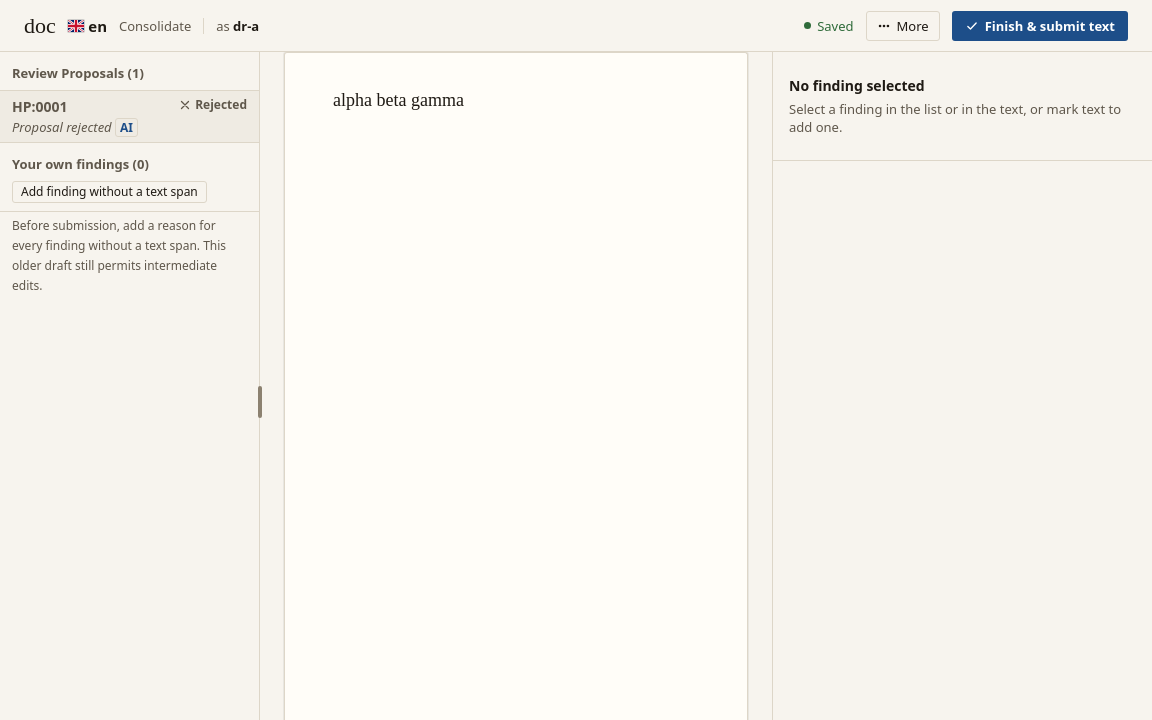
Test: A4/A5: review decisions and notes › asks before adopting (key 3) a proposal that is already rejected
This screenshot has width=1152, height=720.
Press j
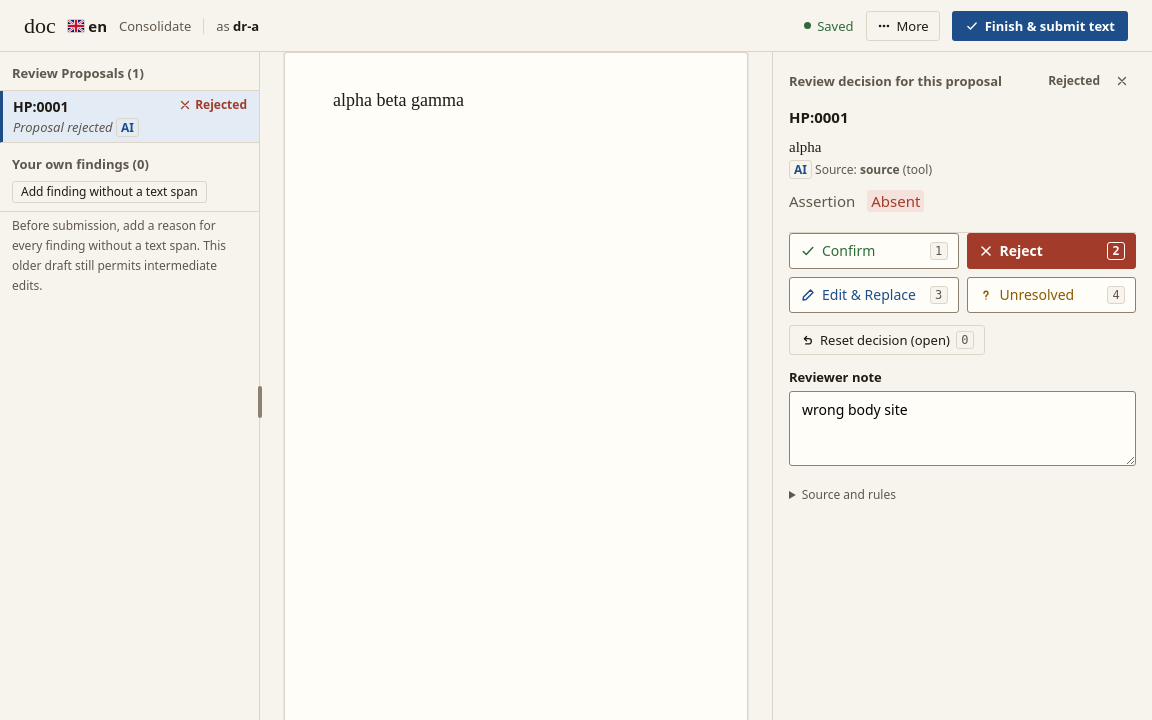
Result: the text box labelled "Reviewer note" is shown at [789,391,1136,466]
Press 3
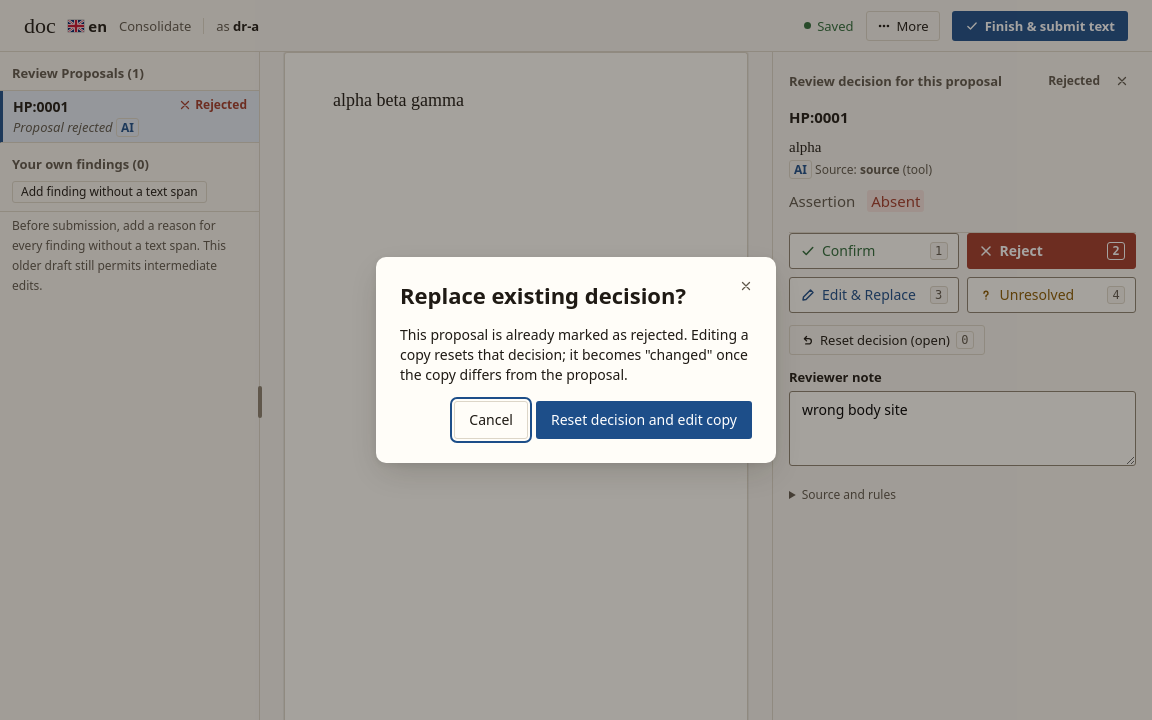
Click the button "Cancel": (491, 420) [454,401,528,439]
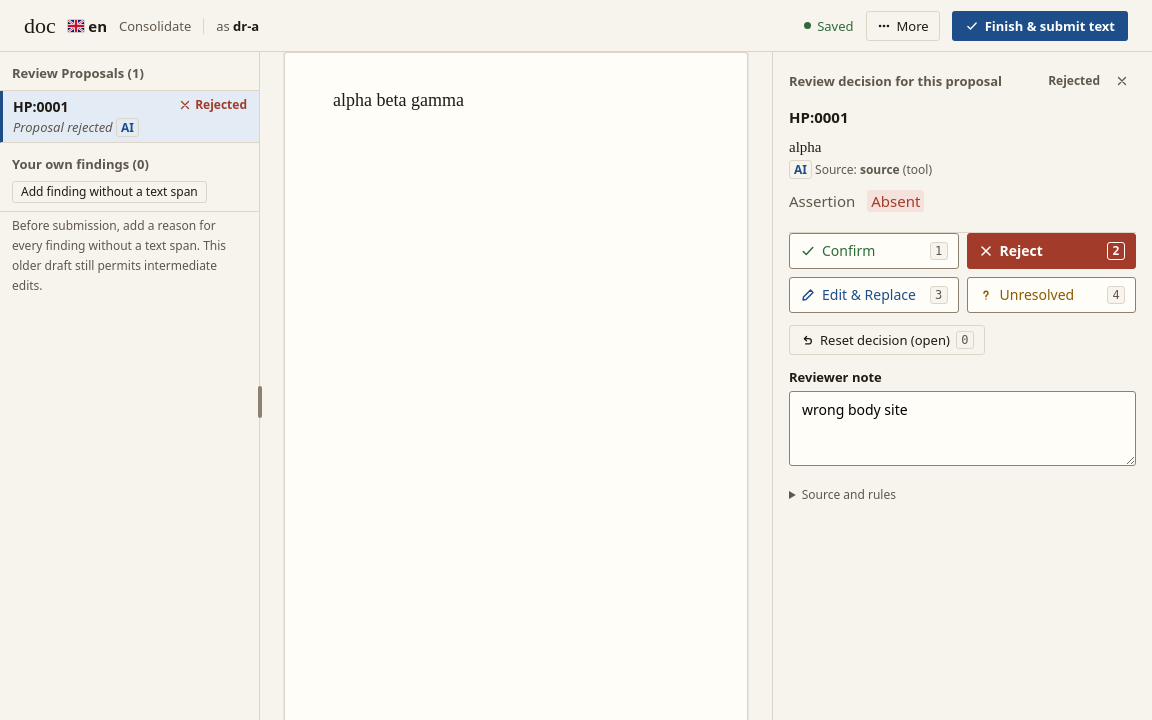
Result: the dialog is gone
